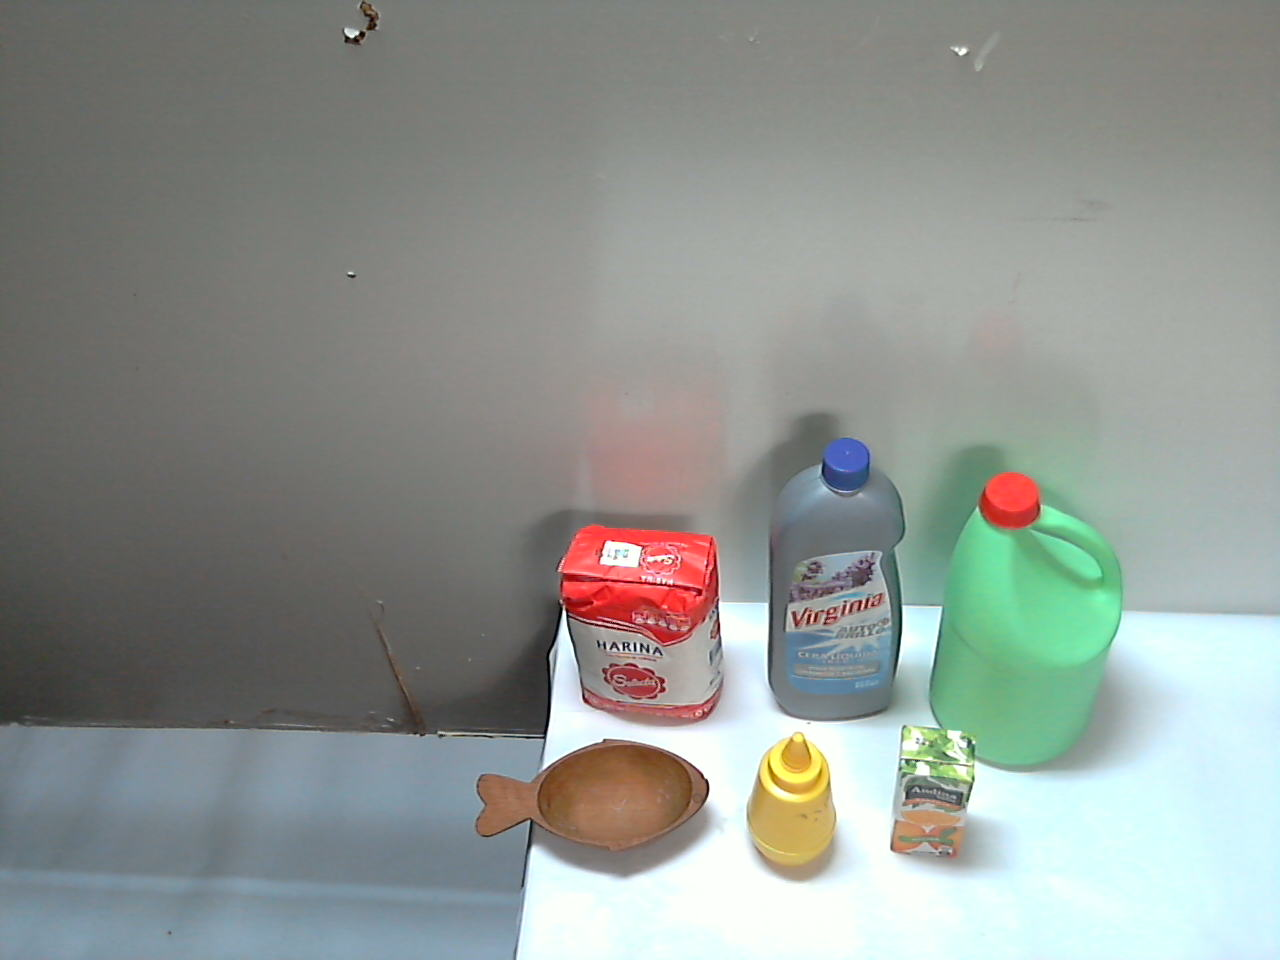confort: (416, 521, 725, 877)
cubix: (889, 745, 1007, 873)
harina: (964, 566, 1173, 809)
jabon: (718, 748, 844, 839)
pepino: (670, 839, 1053, 960)
te: (786, 632, 961, 776)
